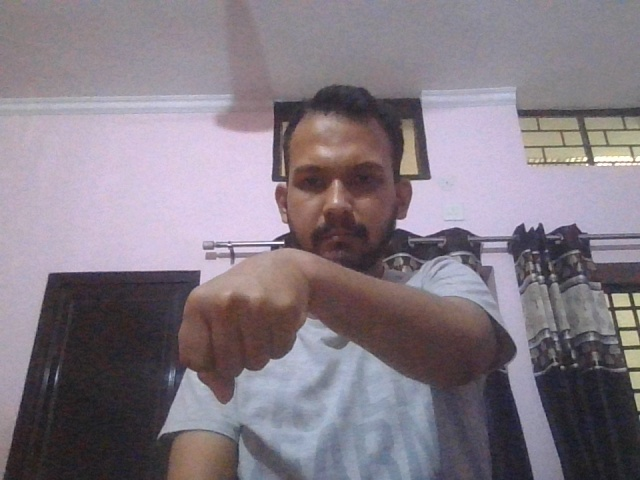yes: (178, 249, 305, 405)
